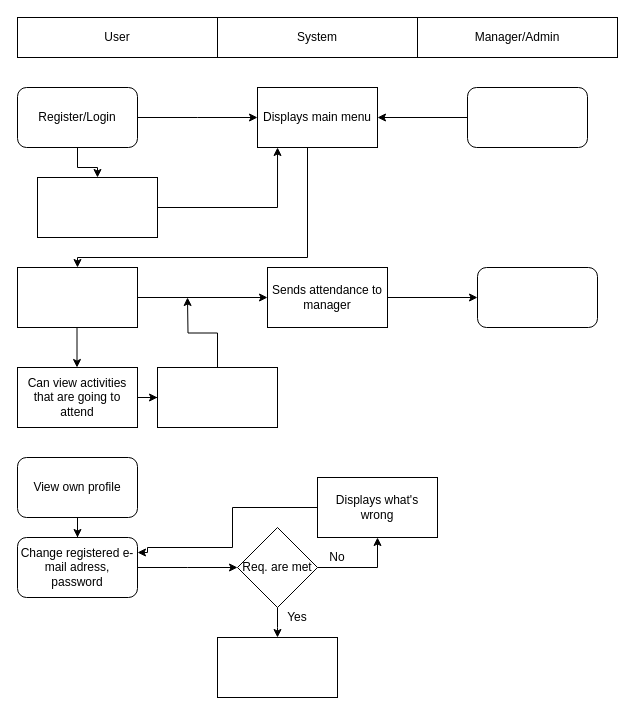
The diagram is 635 pixels wide and 715 high, and some of its shapes have lost their labels. Here are the shapes that lost their labels. From the top down, the centre of each, then its label:
At (527,117): "Makes activity list".
At (97,207): "Making own proposal, if court is free".
At (77,297): "Picks activity and books a place".
At (537,297): "Delivers information to sport center".
At (217,397): "Ability to remove attendance".
At (277,667): "Changes are applied".
